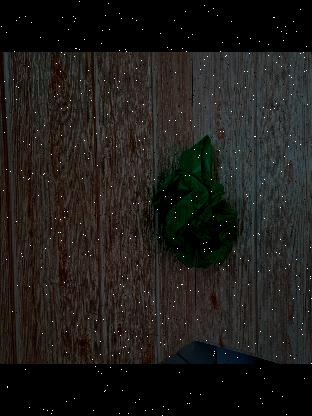Others: (153, 131, 241, 270)
